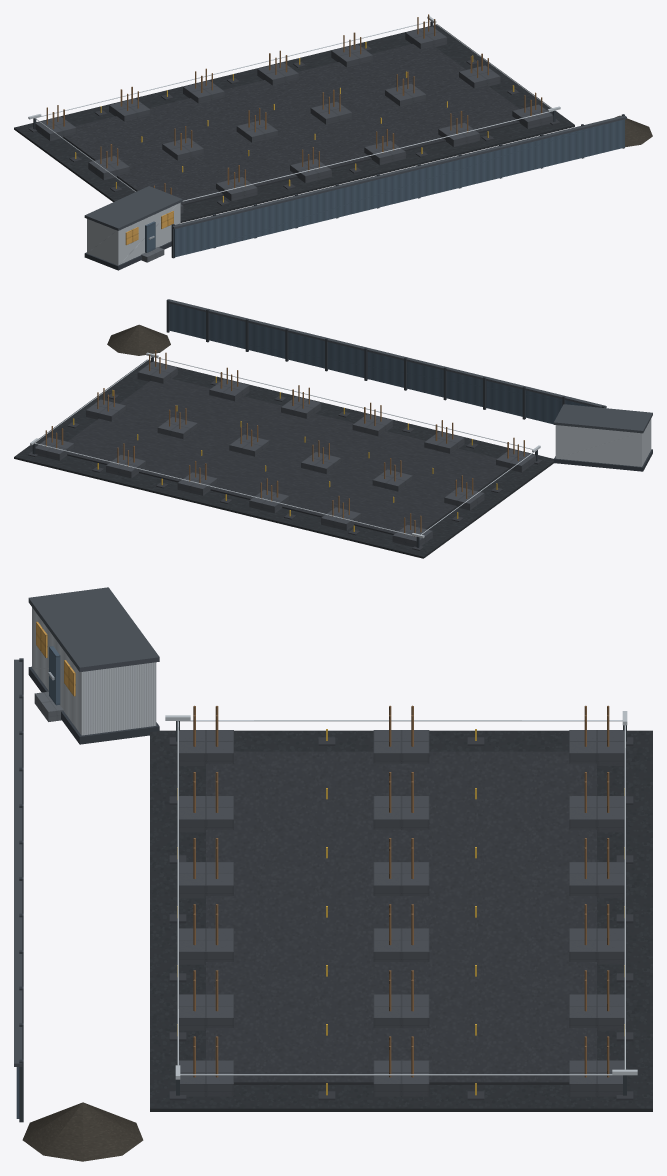
File: trg-5-site.glb
3 renders of one model, top to bottom at view 1: azimuth 30°, elevation 25°; view 2: azimuth 150°, elevation 25°; view 3: azimuth 270°, elevation 25°, orthographic. The views are drawn at different scales.
Size of the model in its own units: 42.1 by 3.1 by 22.87.
17 materials, 9 textured.
